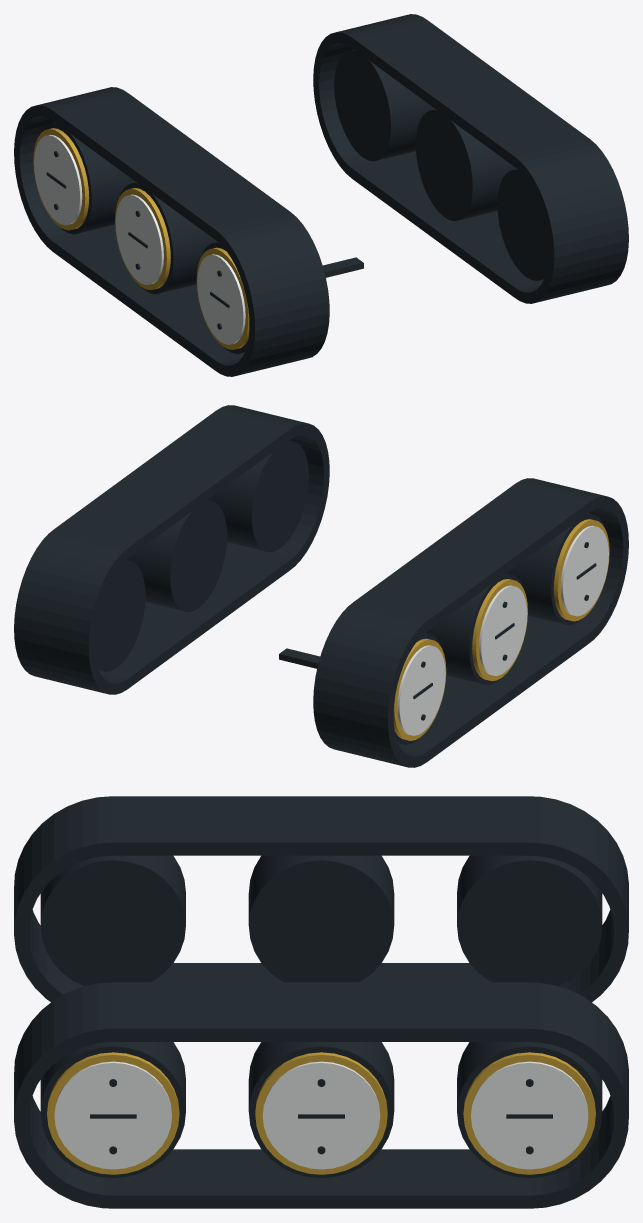
Rendered from light_tracks_runtime_tracks.glb.
3 renders of one model, top to bottom at view 1: azimuth 30°, elevation 25°; view 2: azimuth 150°, elevation 25°; view 3: azimuth 270°, elevation 25°, orthographic. The views are drawn at different scales.
Parts seen in each view (by area): view 1: TrackRig_67, TrackRig_0, WheelLeft0_116, WheelLeft1_122, WheelLeft2_128, WheelRight2_63, WheelRight0_51, WheelRight1_57, WheelRight0_49, WheelRight1_55, WheelRight0_50, WheelRight1_56 (+2 smaller); view 2: TrackRig_67, TrackRig_0, WheelLeft2_128, WheelLeft1_122, WheelLeft0_116, WheelRight0_51, WheelRight2_63, WheelRight1_57, WheelRight2_61, WheelRight1_55, WheelRight2_62, WheelRight1_56 (+2 smaller); view 3: TrackRig_67, TrackRig_0, WheelRight1_55, WheelRight2_61, WheelRight0_49, WheelLeft1_124, WheelLeft0_118, WheelLeft2_130, WheelLeft1_122, WheelLeft0_116, WheelLeft2_128, WheelLeft0_117 (+2 smaller).
Part boxes in pixels (x1,y1,x2,y2): TrackRig_67: (313,14,628,303); TrackRig_0: (14,87,329,376); WheelLeft0_116: (334,49,435,161); WheelLeft1_122: (415,109,516,221); WheelLeft2_128: (497,169,548,280); WheelRight2_63: (197,254,245,344); WheelRight0_51: (34,134,82,225); WheelRight1_57: (115,194,163,284); WheelRight0_49: (38,122,135,234); WheelRight1_55: (119,182,217,294); WheelRight0_50: (33,128,89,230); WheelRight1_56: (115,188,170,290); TrackRig_67: (14,405,329,694); TrackRig_0: (313,478,628,767); WheelLeft2_128: (207,440,308,552); WheelLeft1_122: (126,500,227,612); WheelLeft0_116: (94,560,145,671); WheelRight0_51: (397,645,445,735); WheelRight2_63: (560,525,608,616); WheelRight1_57: (479,585,527,675); WheelRight2_61: (507,513,604,625); WheelRight1_55: (425,573,523,685); WheelRight2_62: (553,519,609,621); WheelRight1_56: (472,579,527,681); TrackRig_67: (14,982,628,1208); TrackRig_0: (14,796,628,1002); WheelRight1_55: (248,855,394,982); WheelRight2_61: (40,855,185,986); WheelRight0_49: (457,855,602,986); WheelLeft1_124: (262,1061,380,1169); WheelLeft0_118: (471,1061,588,1169); WheelLeft2_130: (54,1061,171,1169); WheelLeft1_122: (248,1042,394,1177); WheelLeft0_116: (457,1042,602,1178); WheelLeft2_128: (40,1042,185,1178); WheelLeft0_117: (463,1052,595,1174).
Bounding box in the file's own units: 1.7 × 0.655 × 1.9.
